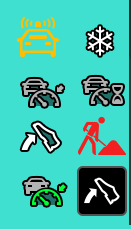ACCELERATOR: (15, 118, 66, 156)
ACCELERATOR_R: (75, 166, 126, 216)
ACC_AKTIV: (15, 71, 70, 112)
ACC_OVER: (16, 172, 71, 213)
ACC_WAITING: (79, 72, 127, 108)
CONSTRUCTION: (75, 115, 128, 160)
EISSTERN: (81, 21, 119, 59)
SEV_INF: (16, 12, 62, 61)
